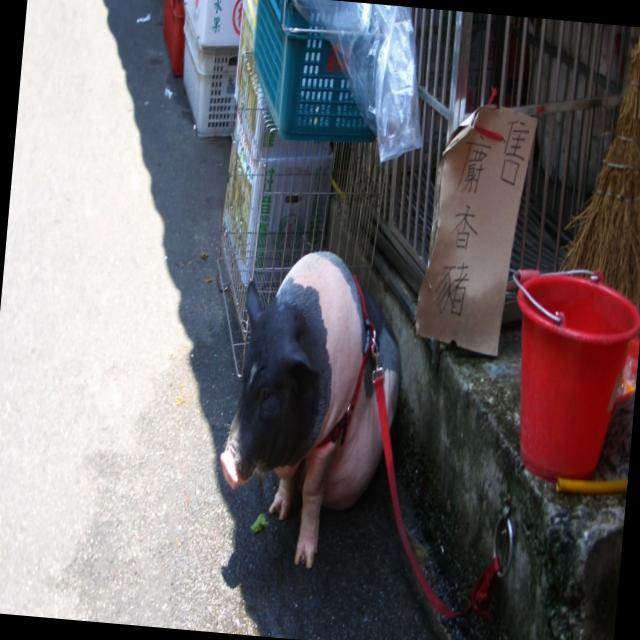pig: (219, 251, 398, 570)
